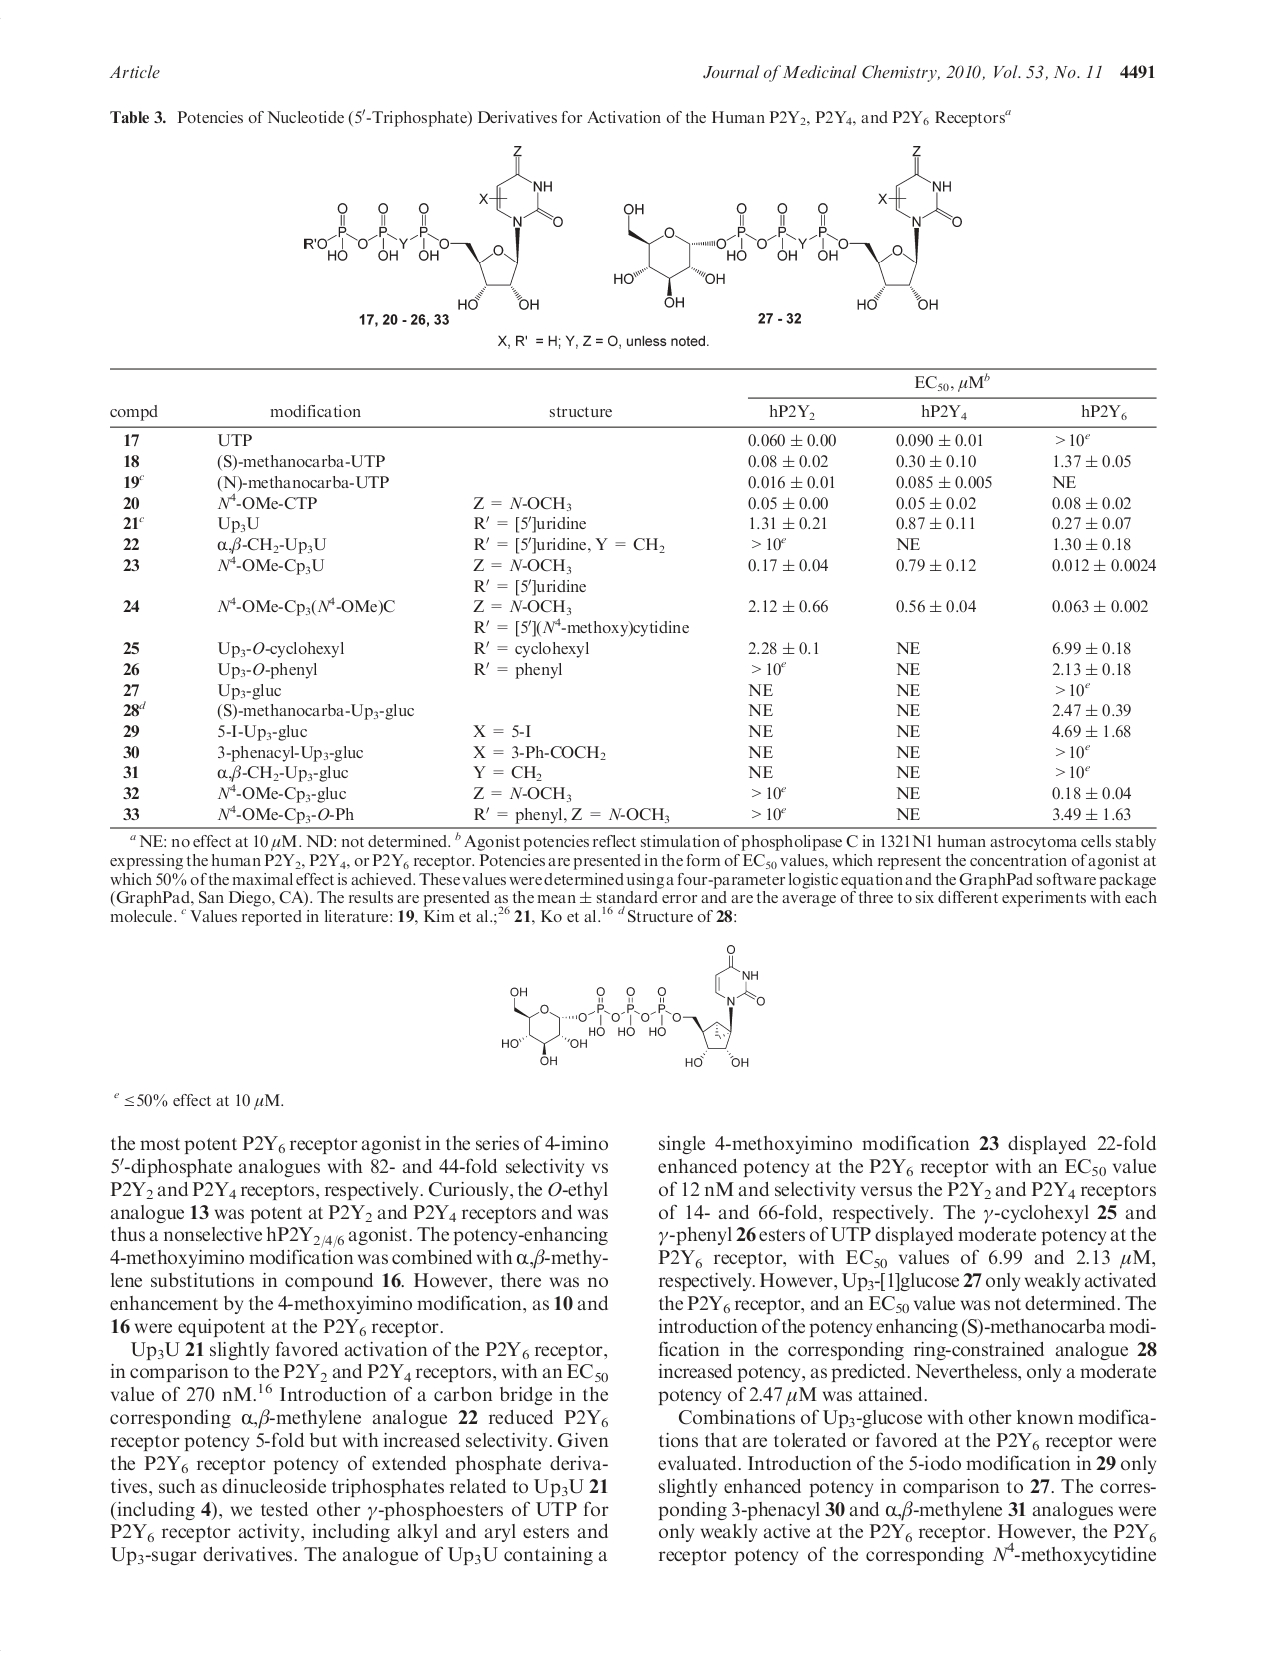exist_molecular: (612, 141, 964, 310), (301, 142, 564, 310), (500, 944, 767, 1071)
